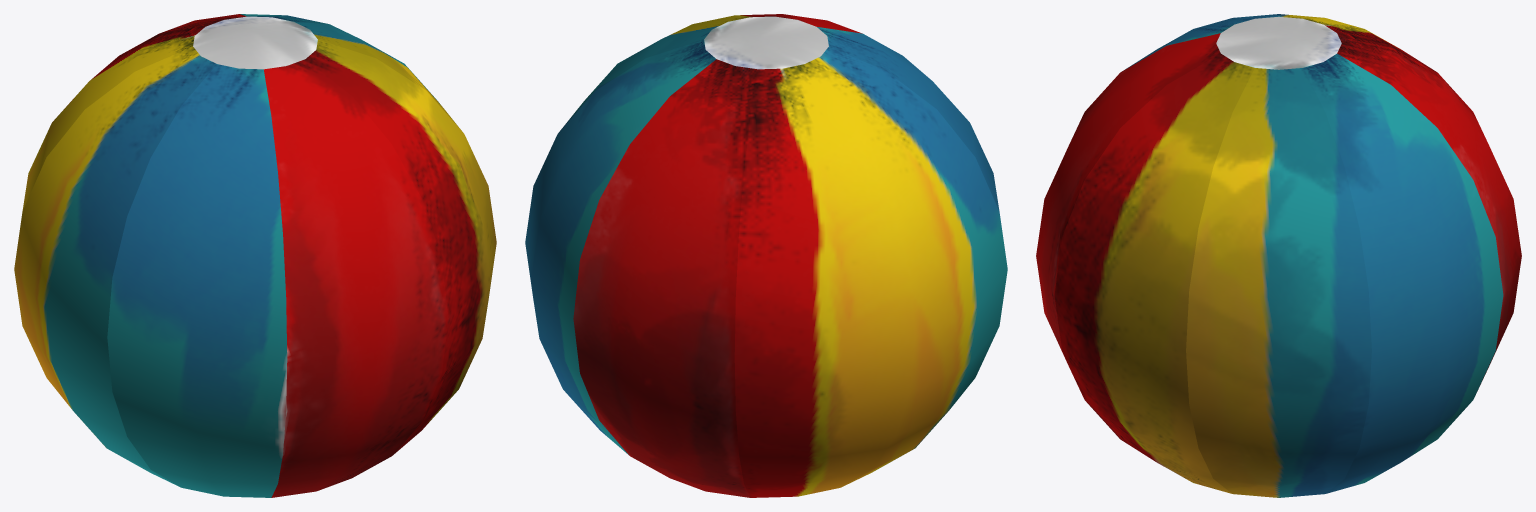
The model's file is Baloon_Asset.fbx.
The picture shows the model from 3 angles, left to right: view 1: azimuth 30°, elevation 25°; view 2: azimuth 150°, elevation 25°; view 3: azimuth 270°, elevation 25°; orthographic projection.
Visible parts, largest first — view 1: Ball; view 2: Ball; view 3: Ball.
Boxes of the visible parts, bbox=[...] form: Ball: bbox=[14, 14, 496, 497]; Ball: bbox=[525, 14, 1007, 497]; Ball: bbox=[1036, 14, 1521, 497].
Bounding box in the file's own units: 60 × 60 × 60.
1 material, 1 textured.
